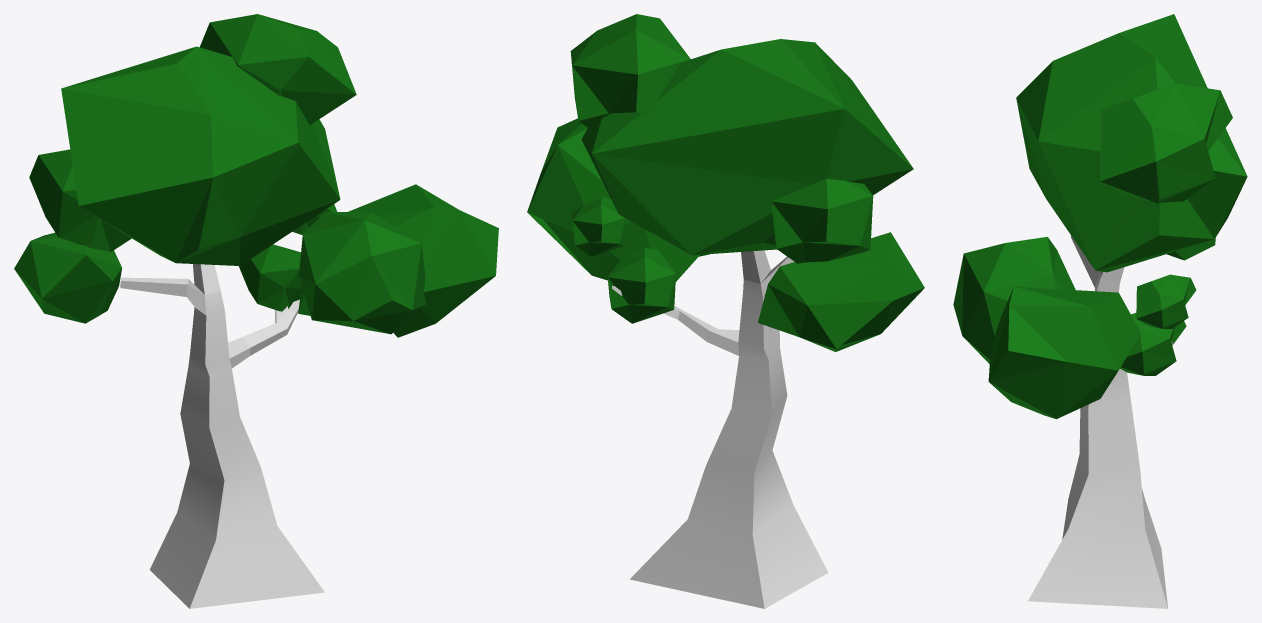
The model's file is tree2.fbx.
3 views of the same model, side by side, from view 1: azimuth 30°, elevation 25°; view 2: azimuth 150°, elevation 25°; view 3: azimuth 270°, elevation 25° (orthographic). The views are drawn at different scales.
Parts seen in each view (by area): view 1: GeoSphere030, Box001, GeoSphere034, GeoSphere033, GeoSphere031, GeoSphere037, GeoSphere032, GeoSphere035; view 2: GeoSphere030, Box001, GeoSphere037, GeoSphere031, GeoSphere033, GeoSphere032, GeoSphere035, GeoSphere036; view 3: GeoSphere030, Box001, GeoSphere033, GeoSphere031, GeoSphere034, GeoSphere036, GeoSphere035, GeoSphere037.
Part boxes in pixels (bbox=[...]): GeoSphere030: bbox=[61, 46, 340, 265]; Box001: bbox=[120, 264, 324, 608]; GeoSphere034: bbox=[299, 212, 426, 334]; GeoSphere033: bbox=[298, 184, 498, 337]; GeoSphere031: bbox=[200, 14, 356, 124]; GeoSphere037: bbox=[14, 232, 121, 323]; GeoSphere032: bbox=[29, 149, 131, 251]; GeoSphere035: bbox=[239, 244, 301, 311]; GeoSphere030: bbox=[581, 39, 913, 255]; Box001: bbox=[612, 250, 828, 608]; GeoSphere037: bbox=[758, 232, 924, 351]; GeoSphere031: bbox=[570, 14, 690, 133]; GeoSphere033: bbox=[527, 118, 699, 281]; GeoSphere032: bbox=[771, 179, 873, 263]; GeoSphere035: bbox=[607, 247, 675, 323]; GeoSphere036: bbox=[571, 197, 625, 256]; GeoSphere030: bbox=[1016, 14, 1247, 272]; Box001: bbox=[1028, 235, 1173, 608]; GeoSphere033: bbox=[988, 286, 1140, 419]; GeoSphere031: bbox=[1100, 83, 1232, 203]; GeoSphere034: bbox=[953, 237, 1075, 363]; GeoSphere036: bbox=[1136, 274, 1196, 328]; GeoSphere035: bbox=[1120, 313, 1186, 375]; GeoSphere037: bbox=[1166, 238, 1215, 260].
Size of the model in its own units: 2386 by 2967 by 1519.
